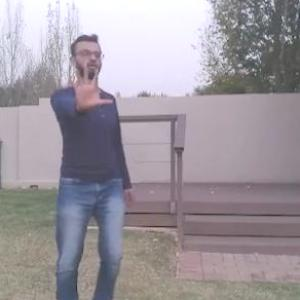follow_hand: (65, 62, 113, 111)
